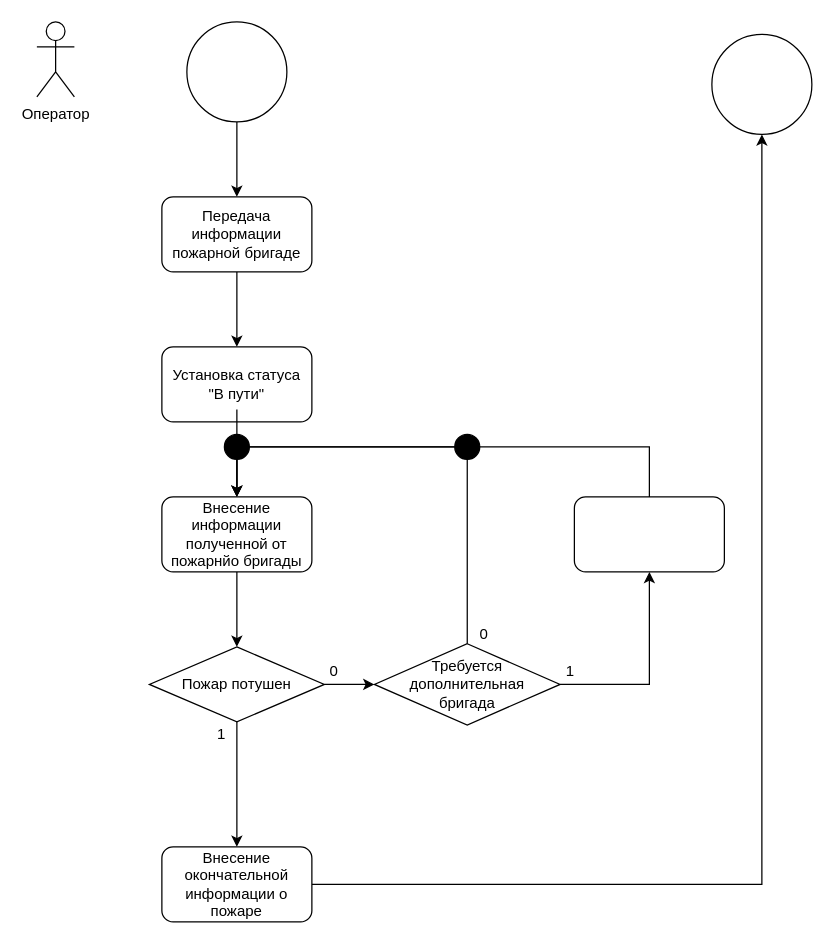
Image size: 834x944. Some labels were removed from this diagram. Here are the shapes that lost their labels. From the top down, the centre of each, then its label:
At (236,71): "Получил сообщение".
At (761,83): "Заявка закрыта".
At (648,534): "Вызывапет дополнительную бригаду".
